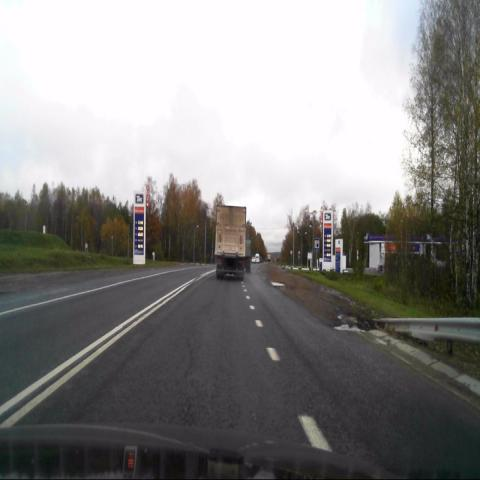7_3: (313, 237, 320, 252)
